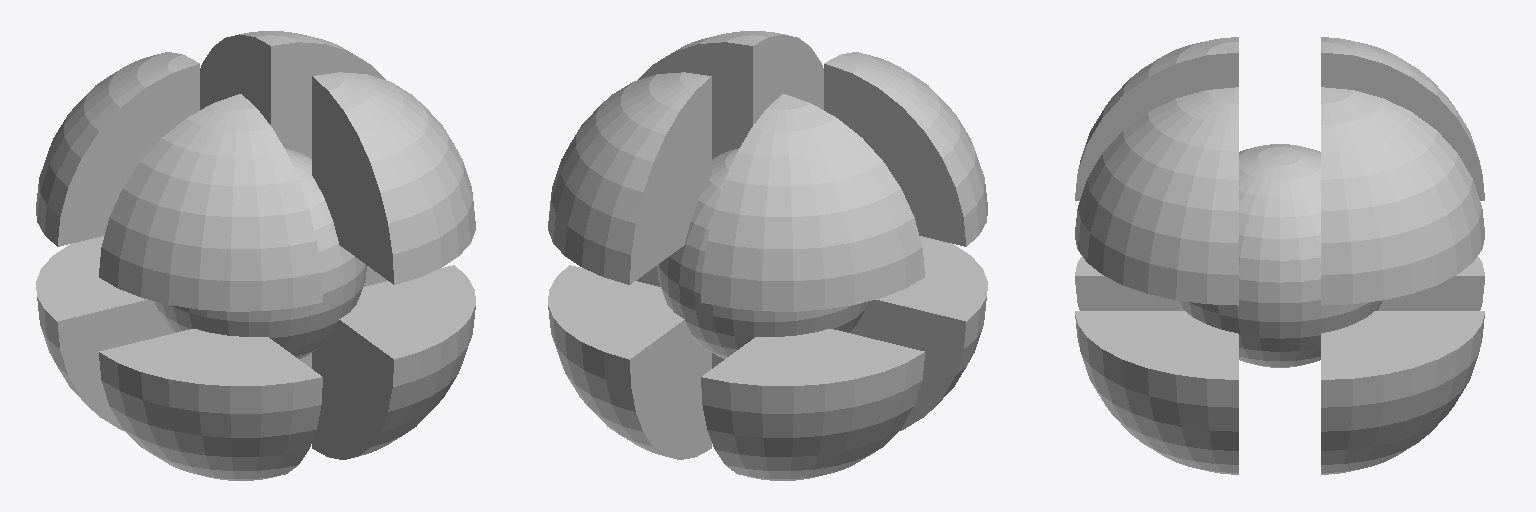
The model's file is energy_core.obj.
3 renders of one model, left to right at view 1: azimuth 30°, elevation 25°; view 2: azimuth 150°, elevation 25°; view 3: azimuth 270°, elevation 25°, orthographic.
Parts seen in each view (by area): view 1: Sphere.002; view 2: Sphere.002; view 3: Sphere.002.
Part boxes in pixels (x1,y1,x2,y2): Sphere.002: (36, 31, 475, 480); Sphere.002: (548, 31, 987, 480); Sphere.002: (1075, 37, 1484, 474).
Size of the model in its own units: 0.3 by 0.3 by 0.3.